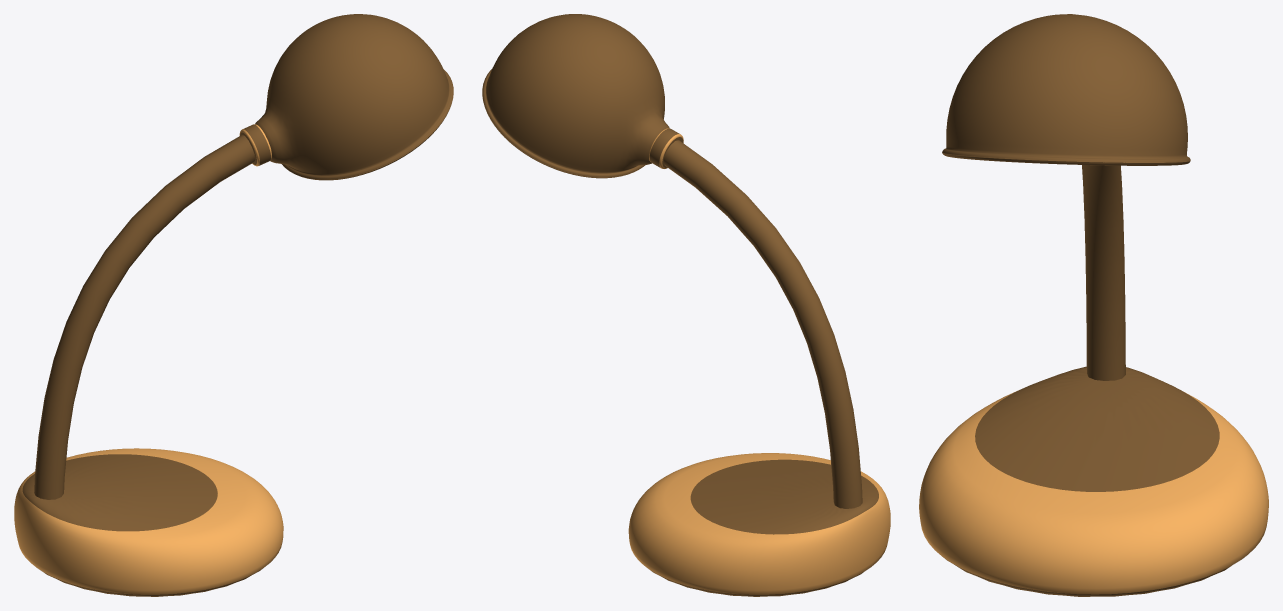
The model's file is lamp.fbx.
3 views of the same model, side by side, from view 1: azimuth 30°, elevation 25°; view 2: azimuth 150°, elevation 25°; view 3: azimuth 270°, elevation 25° (orthographic). The views are drawn at different scales.
Visible parts, largest first — view 1: Cylinder.014; view 2: Cylinder.014; view 3: Cylinder.014.
Boxes of the visible parts, x1,y1,x2,y2 form: Cylinder.014: (14, 14, 453, 596); Cylinder.014: (482, 14, 890, 596); Cylinder.014: (919, 14, 1268, 596).
Size of the model in its own units: 251 by 290 by 146.
